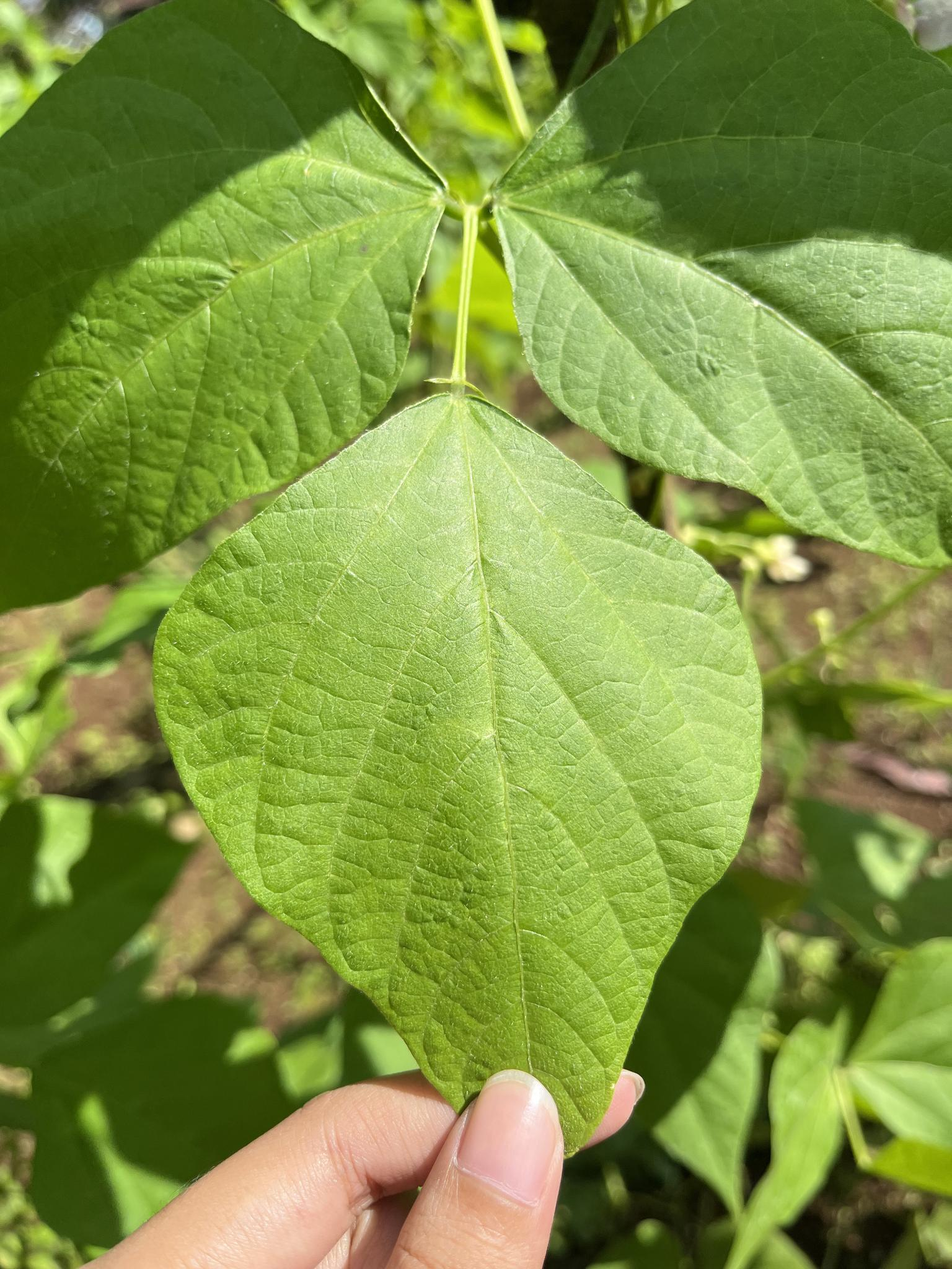sehat: (133, 390, 761, 1158)
